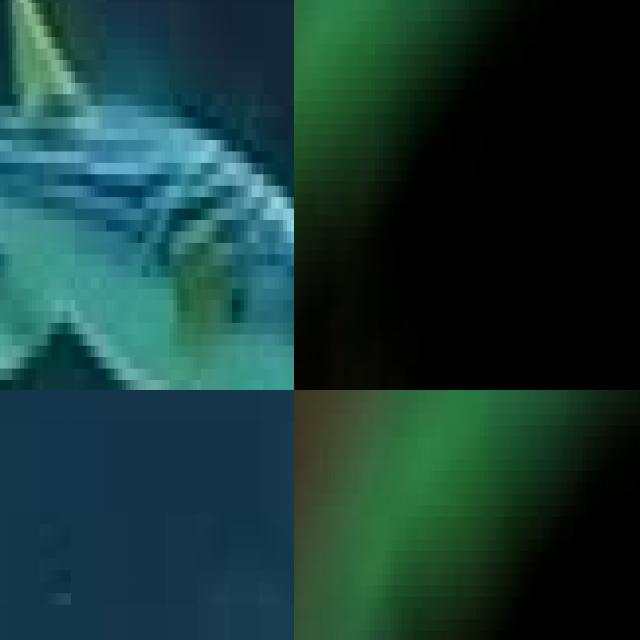fish: (0, 0, 294, 390), (294, 390, 492, 619)
